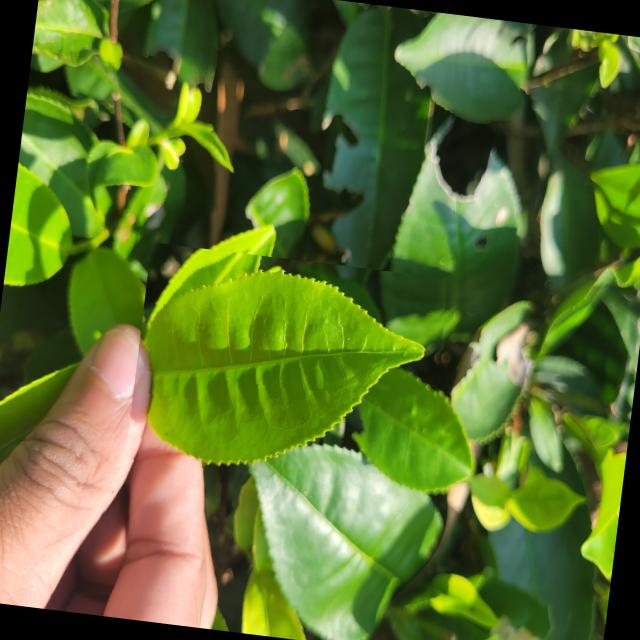Catagory A(1-2 days): (122, 241, 456, 507)
